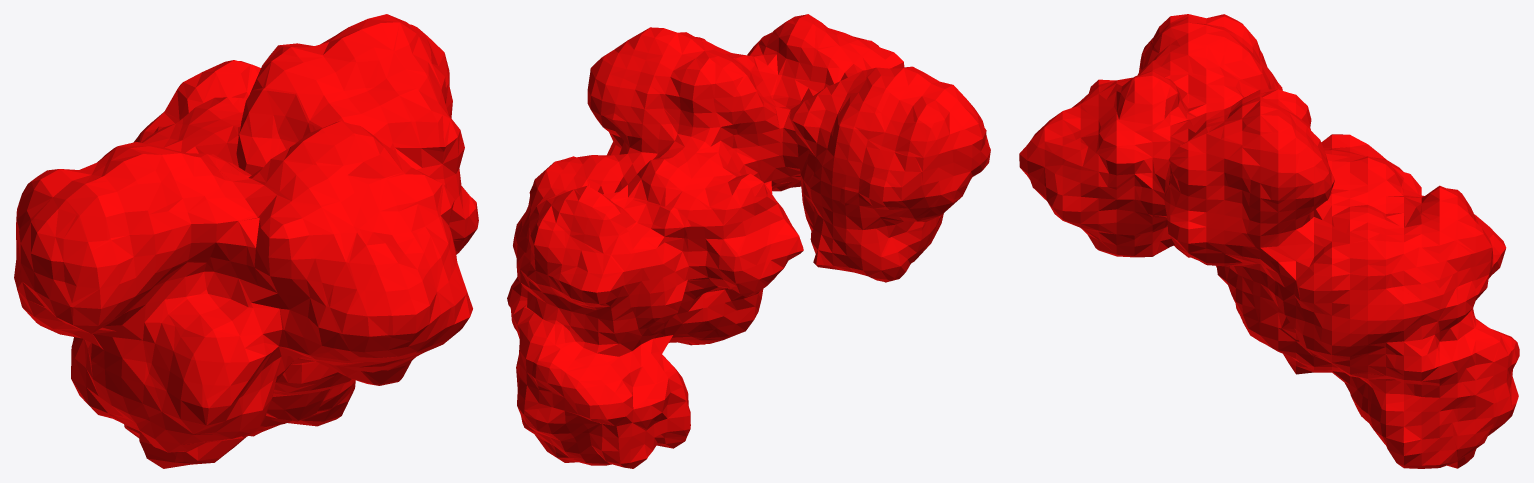
File: glmS_coarse.dae
3 views of the same model, side by side, from view 1: azimuth 30°, elevation 25°; view 2: azimuth 150°, elevation 25°; view 3: azimuth 270°, elevation 25° (orthographic). The views are drawn at different scales.
Visible parts, largest first — view 1: glmS; view 2: glmS; view 3: glmS.
Boxes of the visible parts, <box> form: glmS: <box>14,14,478,468</box>; glmS: <box>507,14,990,468</box>; glmS: <box>1019,14,1519,468</box>.
Bounding box in the file's own units: 112 × 107 × 134.
